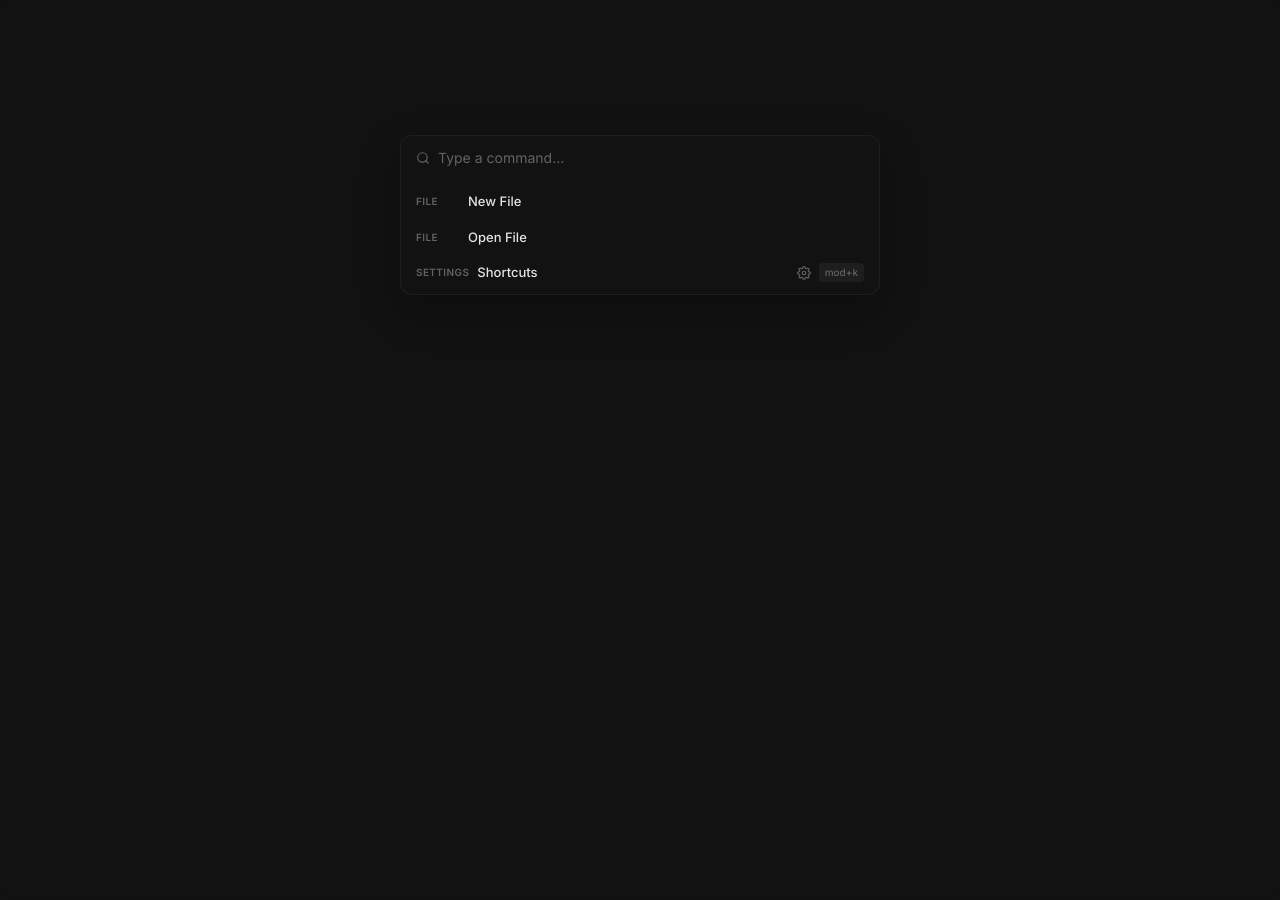
Test: CommandPalette › filters commands on input
In the field with placeholder "Type a command…": x=651, y=158 x1=438 y1=147 x2=864 y2=168, type "New"
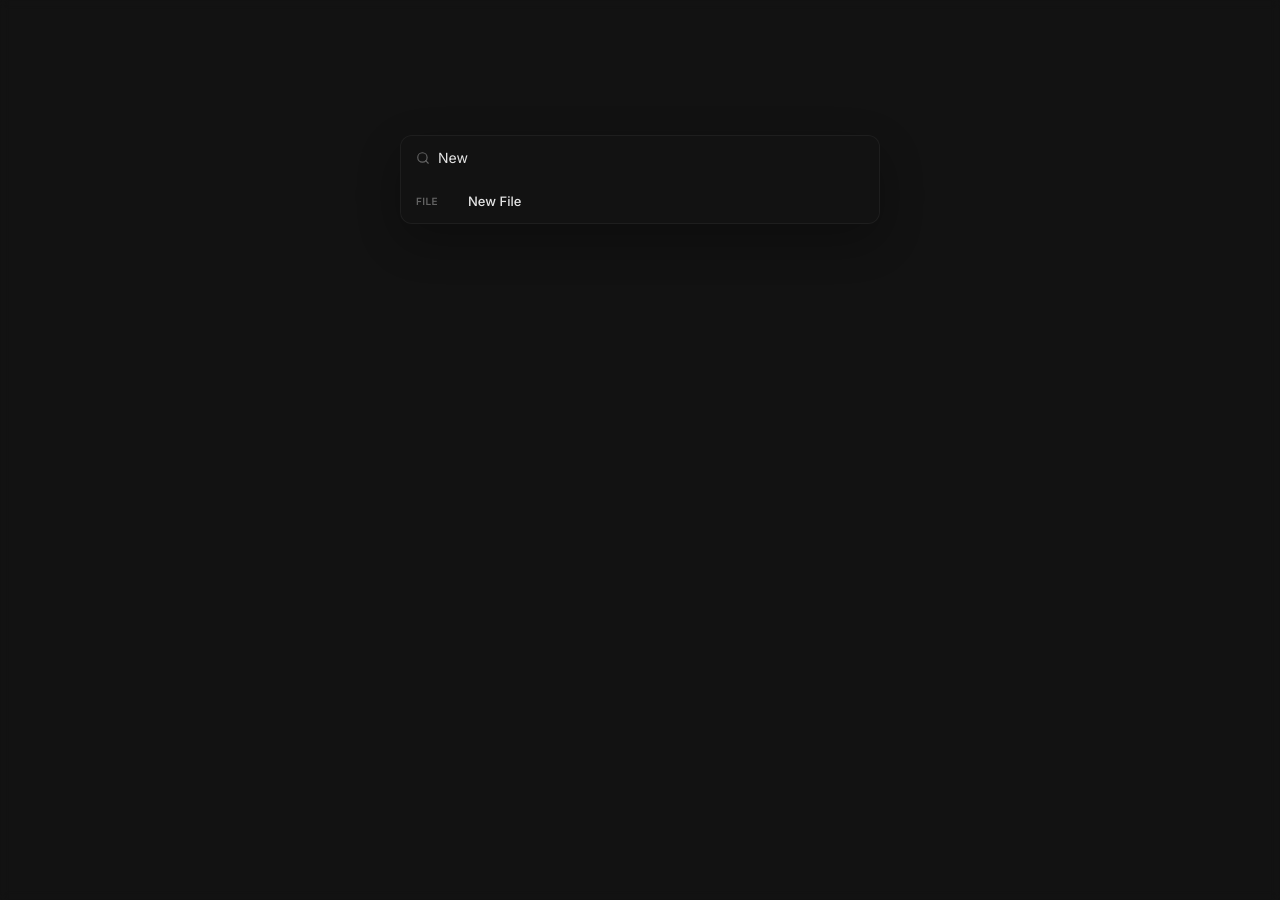
Expected: the text "New File" is shown, x1=468 y1=193 x2=521 y2=209
Now the button "Open File" is gone
